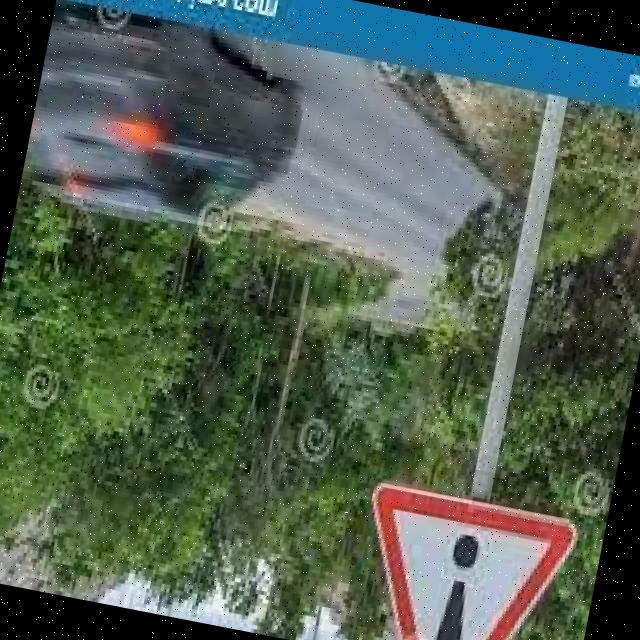warning: (339, 473, 576, 640)
